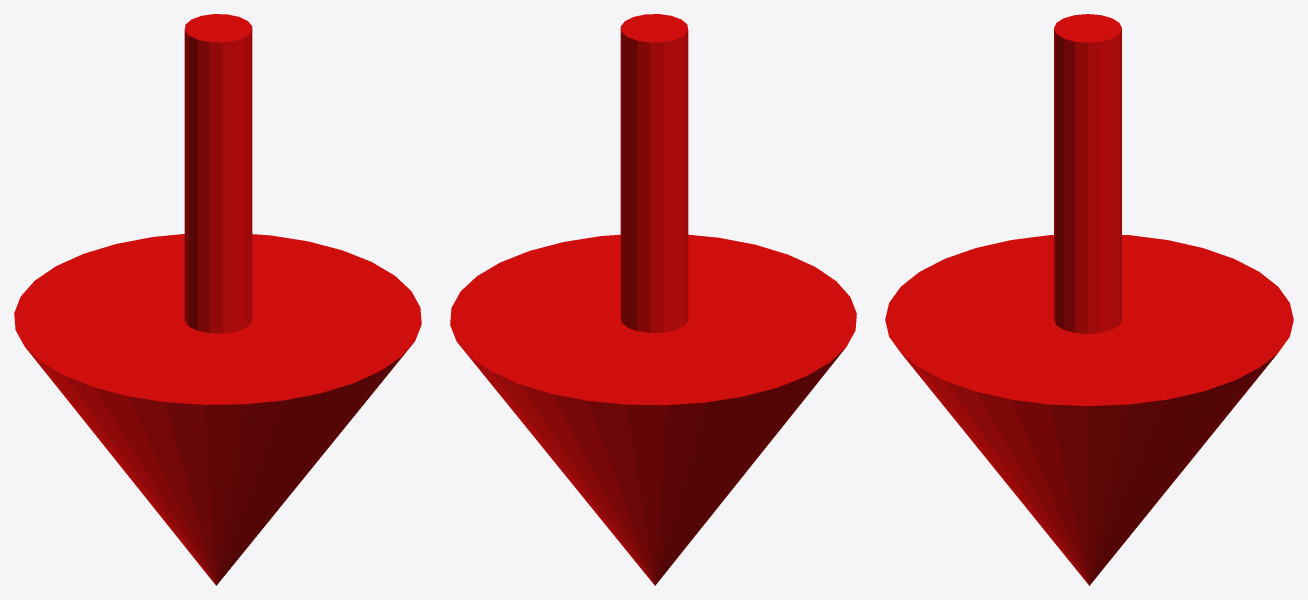
Rendered from arrow.dae.
The picture shows the model from 3 angles, left to right: view 1: azimuth 30°, elevation 25°; view 2: azimuth 150°, elevation 25°; view 3: azimuth 270°, elevation 25°; orthographic projection.
Visible parts, largest first — view 1: Arrow (×2); view 2: Arrow (×2); view 3: Arrow (×2).
Boxes of the visible parts, bbox=[...] form: Arrow (×2): bbox=[14, 14, 421, 585]; Arrow (×2): bbox=[450, 14, 856, 585]; Arrow (×2): bbox=[885, 14, 1293, 585].
Size of the model in its own units: 232 by 350 by 232.
